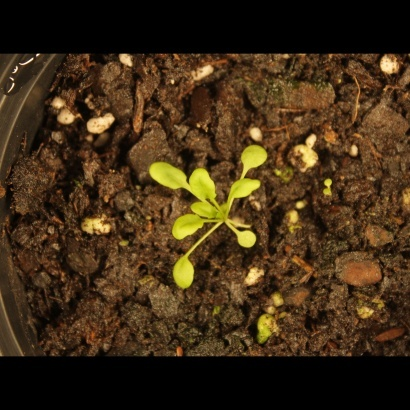leaf: (146, 156, 190, 193), (189, 162, 220, 205), (168, 253, 199, 294), (228, 175, 264, 206), (168, 214, 206, 242), (239, 139, 269, 171), (236, 225, 260, 253), (192, 200, 221, 223)
